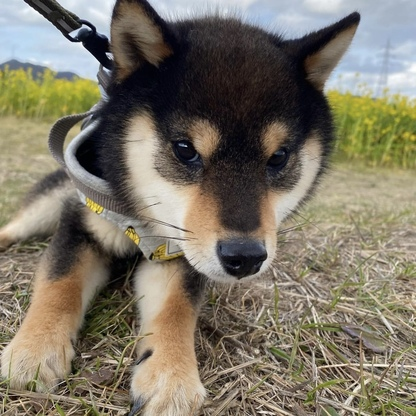shiba: (1, 1, 366, 416)
